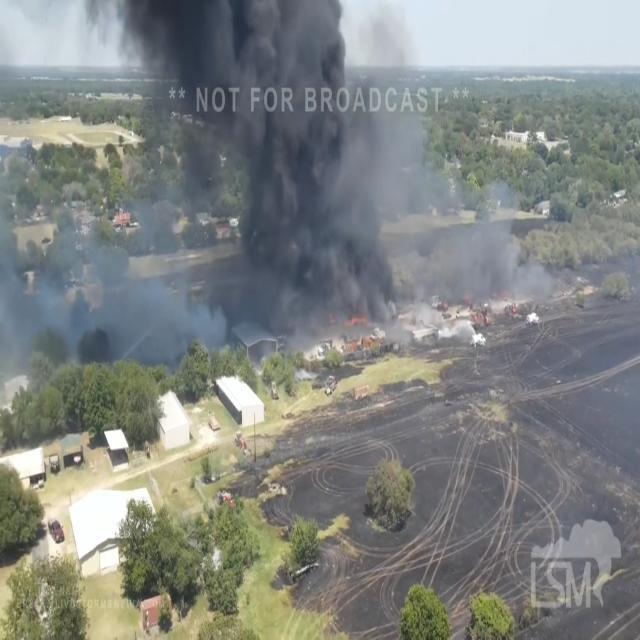Smoke: (139, 0, 388, 331)
